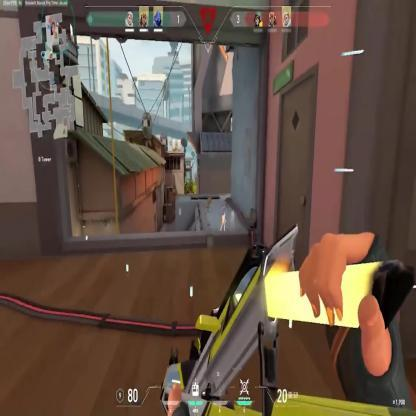enemy: (230, 210, 235, 231), (221, 213, 225, 231)
enemy_head: (224, 214, 225, 218)
